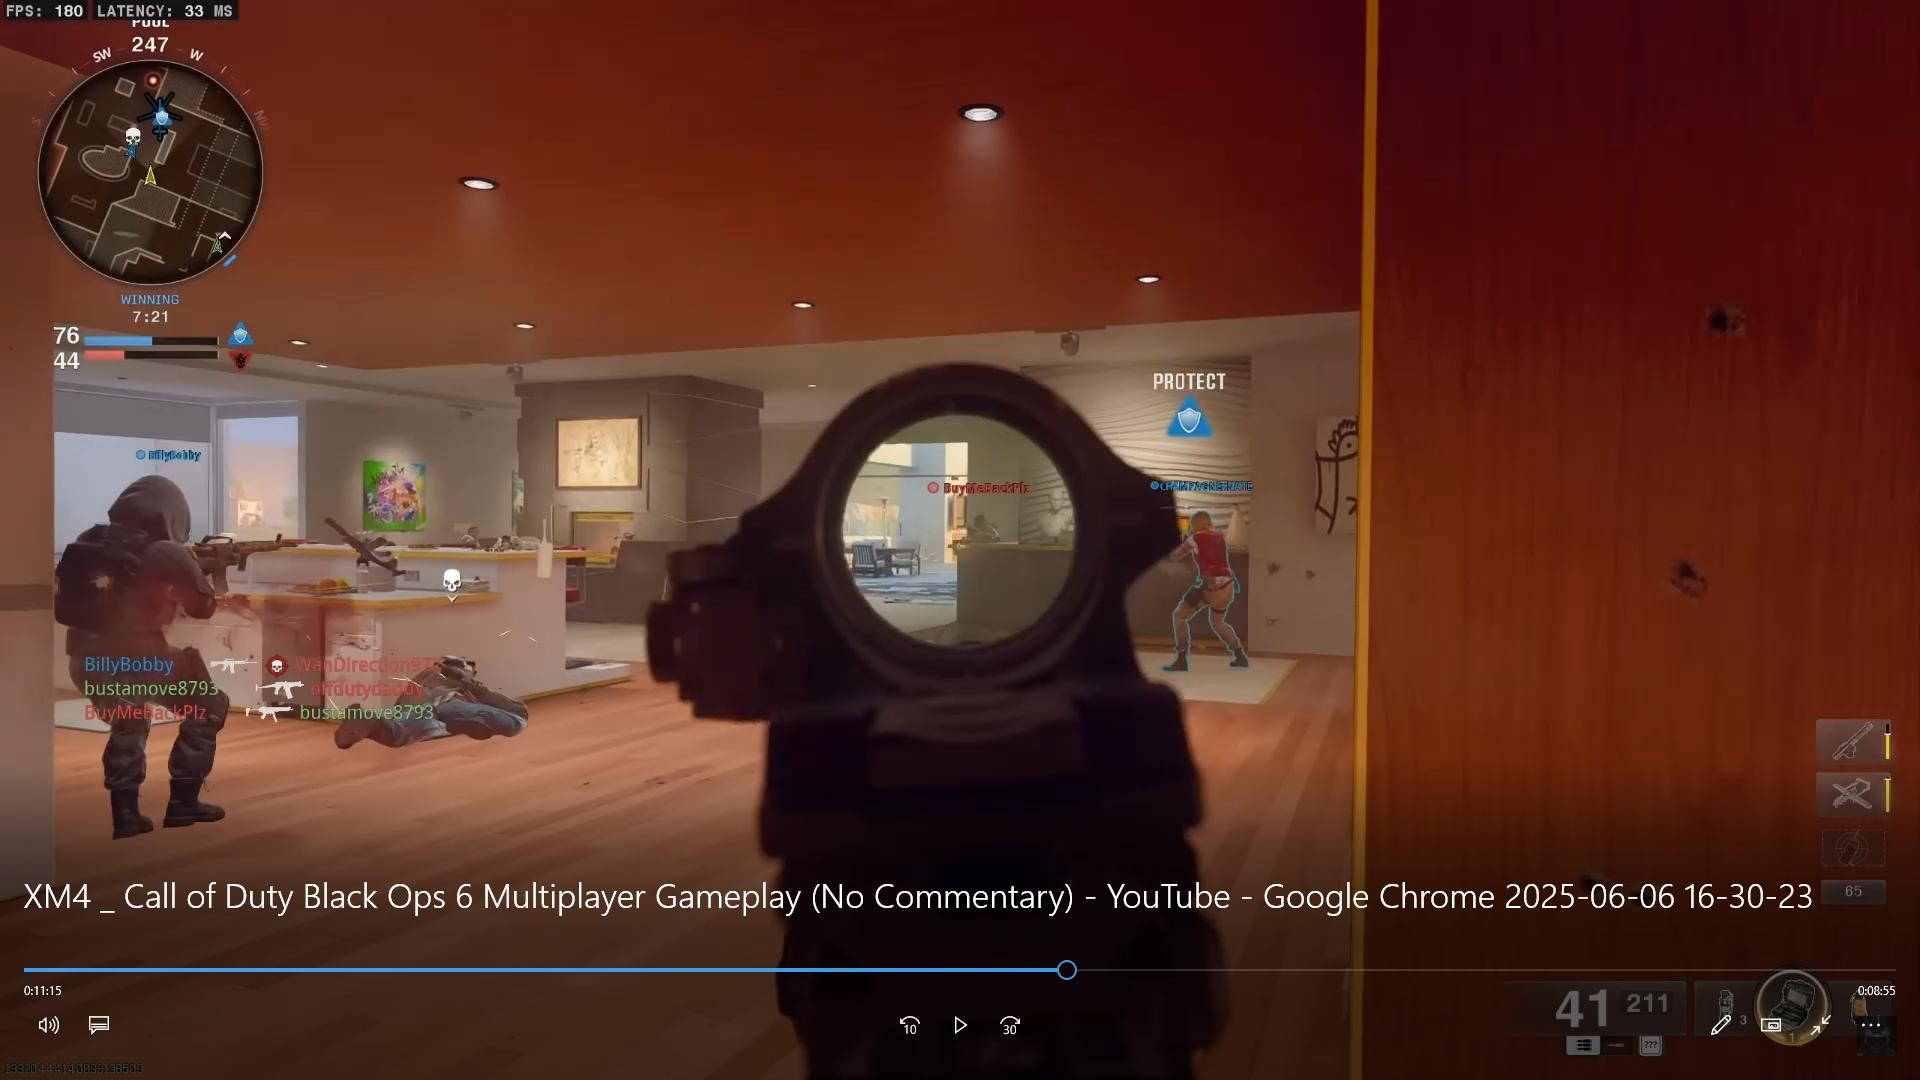Enemy: (79, 464, 233, 630), (951, 475, 1013, 551)
